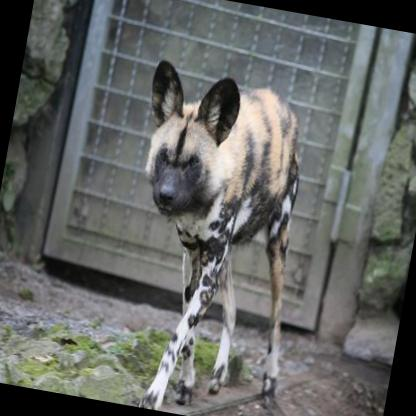African_hunting_dog: (95, 56, 329, 416)
